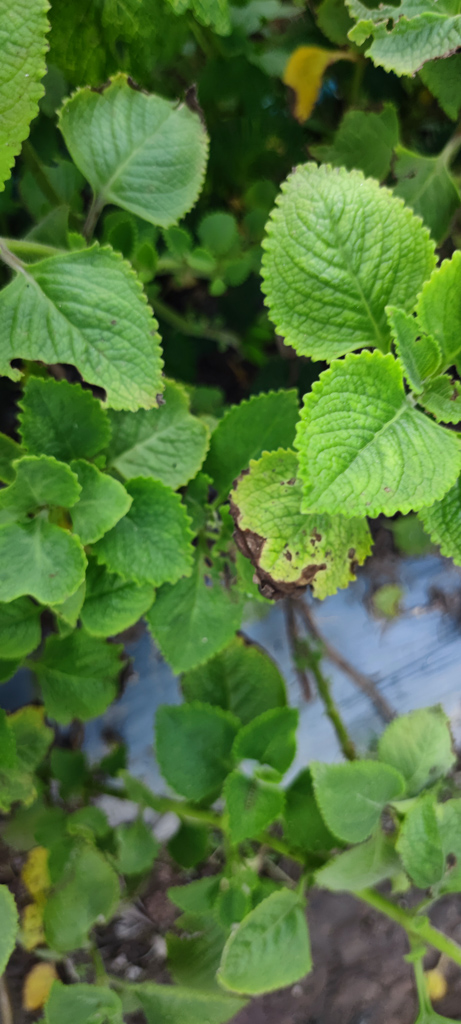Pepper yellow leaf: (15, 841, 63, 1008), (277, 40, 357, 128), (414, 962, 451, 1005)
